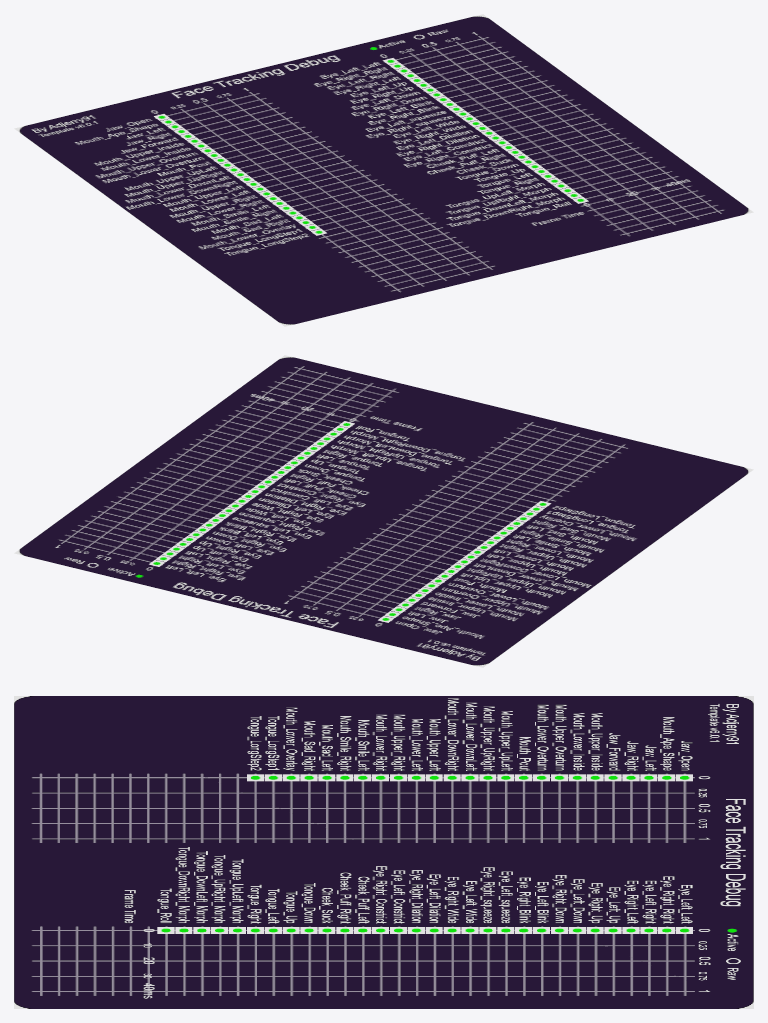
Rendered from FT_SRanipal_Debug.fbx.
3 renders of one model, top to bottom at view 1: azimuth 30°, elevation 25°; view 2: azimuth 150°, elevation 25°; view 3: azimuth 270°, elevation 25°, orthographic. The views are drawn at different scales.
Parts seen in each view (by area): view 1: Debug; view 2: Debug; view 3: Debug.
Boxes of the visible parts, <box> form: Debug: <box>14,14,753,326</box>; Debug: <box>14,355,753,667</box>; Debug: <box>14,696,753,1008</box>.
Size of the model in its own units: 0.75 by 4.73e-07 by 0.75.
